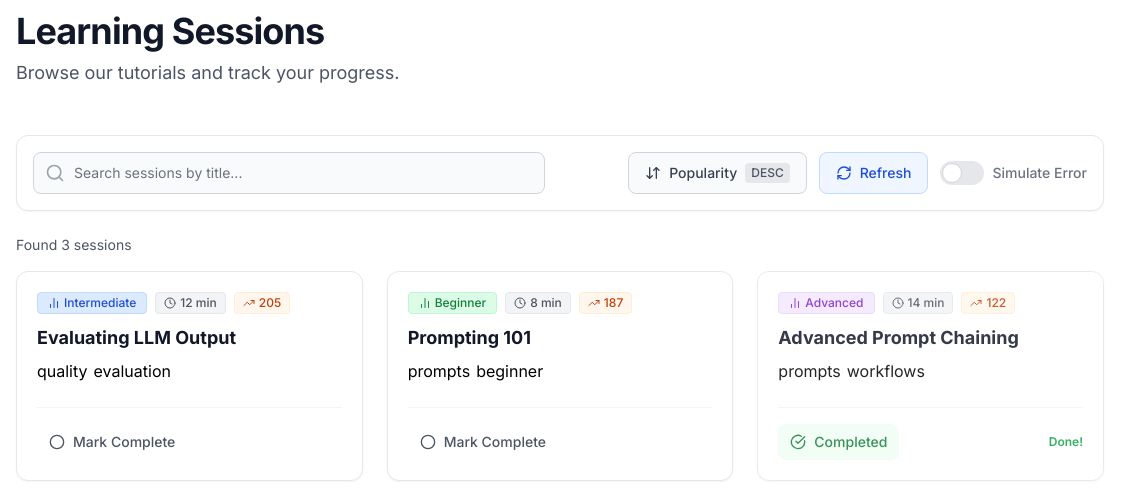
Learning Sessions Browser - User Behavior › shows empty state when no search results found
This screenshot has width=1121, height=498.
expect the heading "Prompting 101" is shown: met, box [408,327,531,348]
Type "nonexistent session" into the field labelled "Search sessions by title".
click(289, 173); type("nonexistent session")  # box [33,152,545,194]
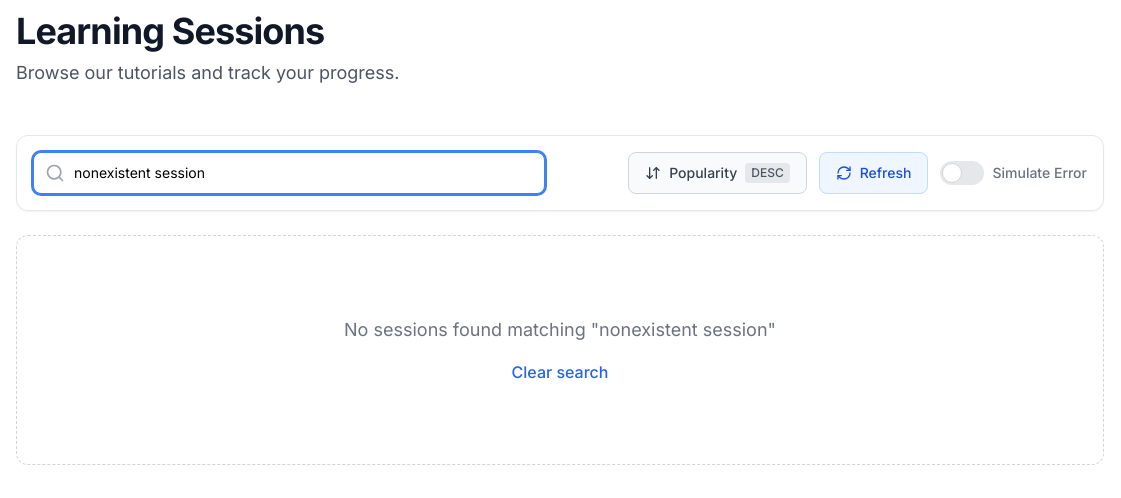
expect the text "No sessions found matching \"nonexistent session\"" is shown: met, box [344,319,776,340]
expect the button "Clear search" is shown: met
Test clear search button
Click the button "Clear search".
click(560, 372)  # box [512,360,608,384]
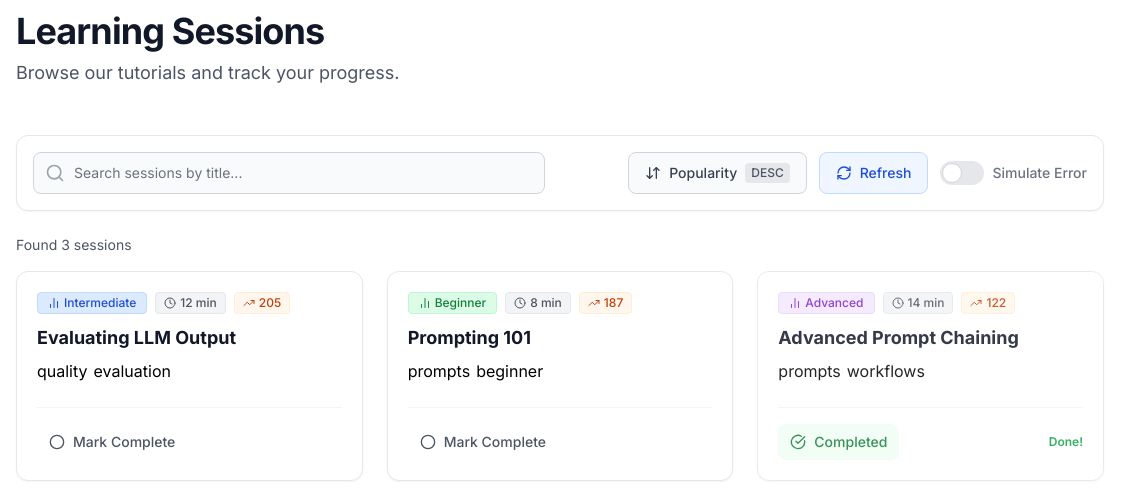
expect the heading "Prompting 101" is shown: met, box [408,327,531,348]
expect the field labelled "Search sessions by title" is empty: met, box [33,152,545,194]
